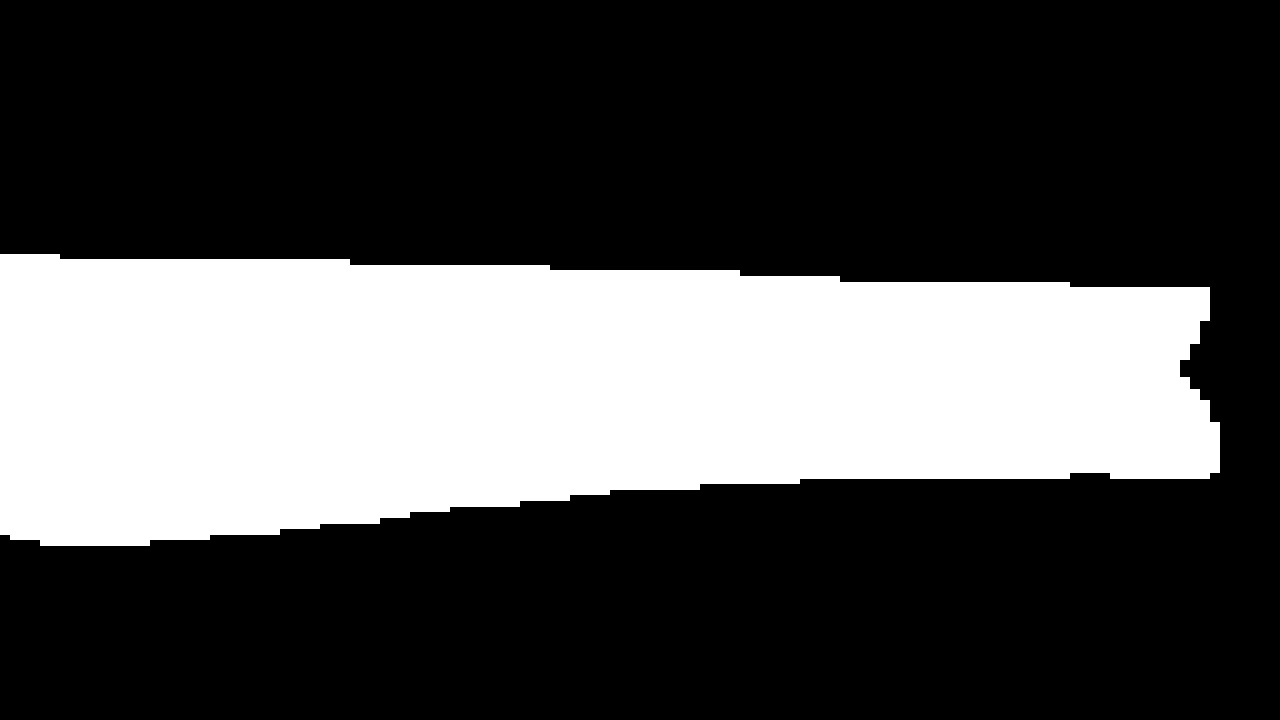Turbine: (5, 236, 1241, 545)
